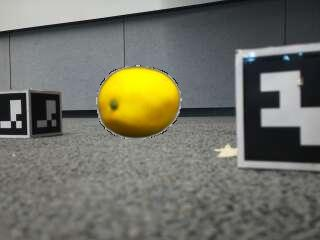lemon: (98, 67, 180, 137)
